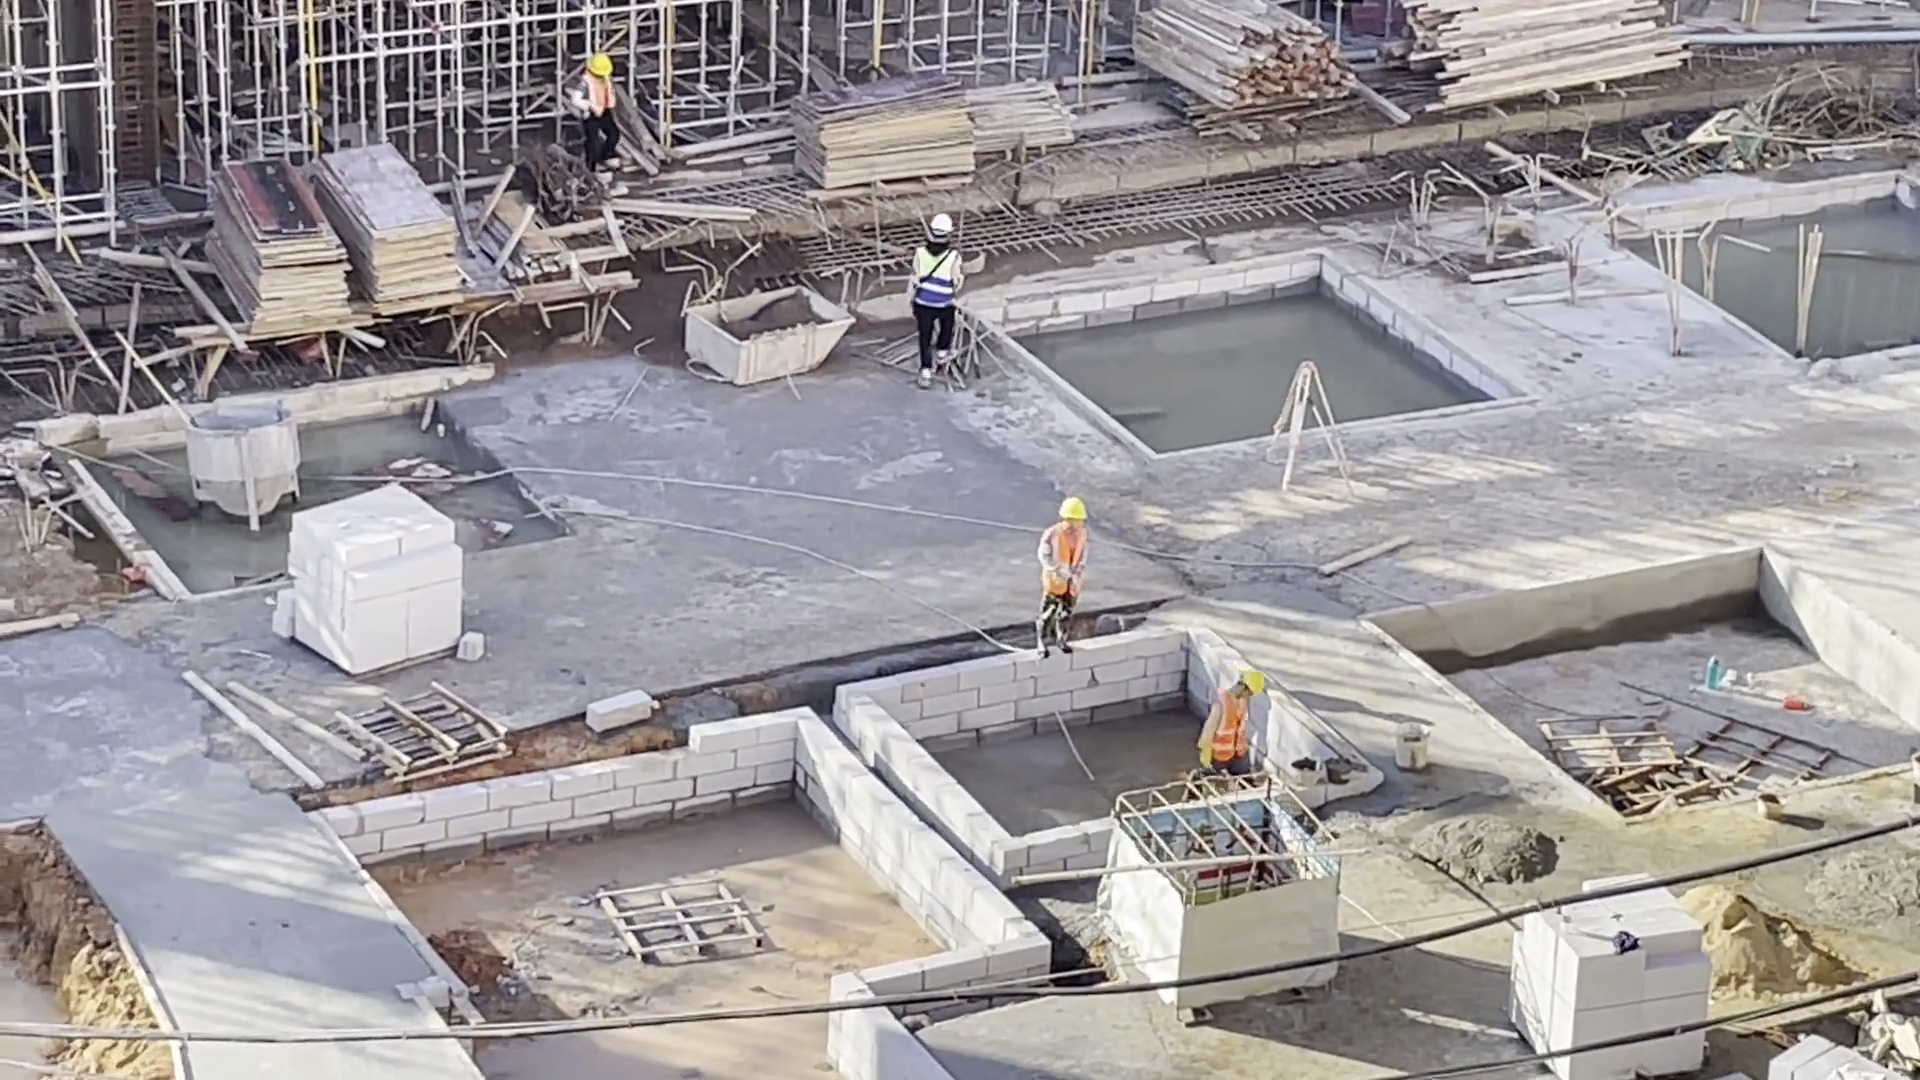board: (196, 152, 364, 341), (317, 141, 478, 320), (788, 65, 981, 204)
brick: (279, 480, 467, 664), (1499, 920, 1709, 1028)
helmet: (1055, 495, 1089, 521), (1237, 668, 1266, 696), (586, 52, 615, 75), (927, 212, 957, 234)
hopper: (677, 283, 854, 385), (184, 393, 302, 541)
person: (902, 211, 972, 398), (1035, 496, 1091, 661), (1196, 665, 1268, 773), (574, 54, 626, 173)
vest: (1039, 521, 1088, 596), (1207, 692, 1252, 764), (912, 245, 960, 308), (578, 73, 620, 112)
wood: (1393, 2, 1699, 112), (1121, 4, 1358, 113)
